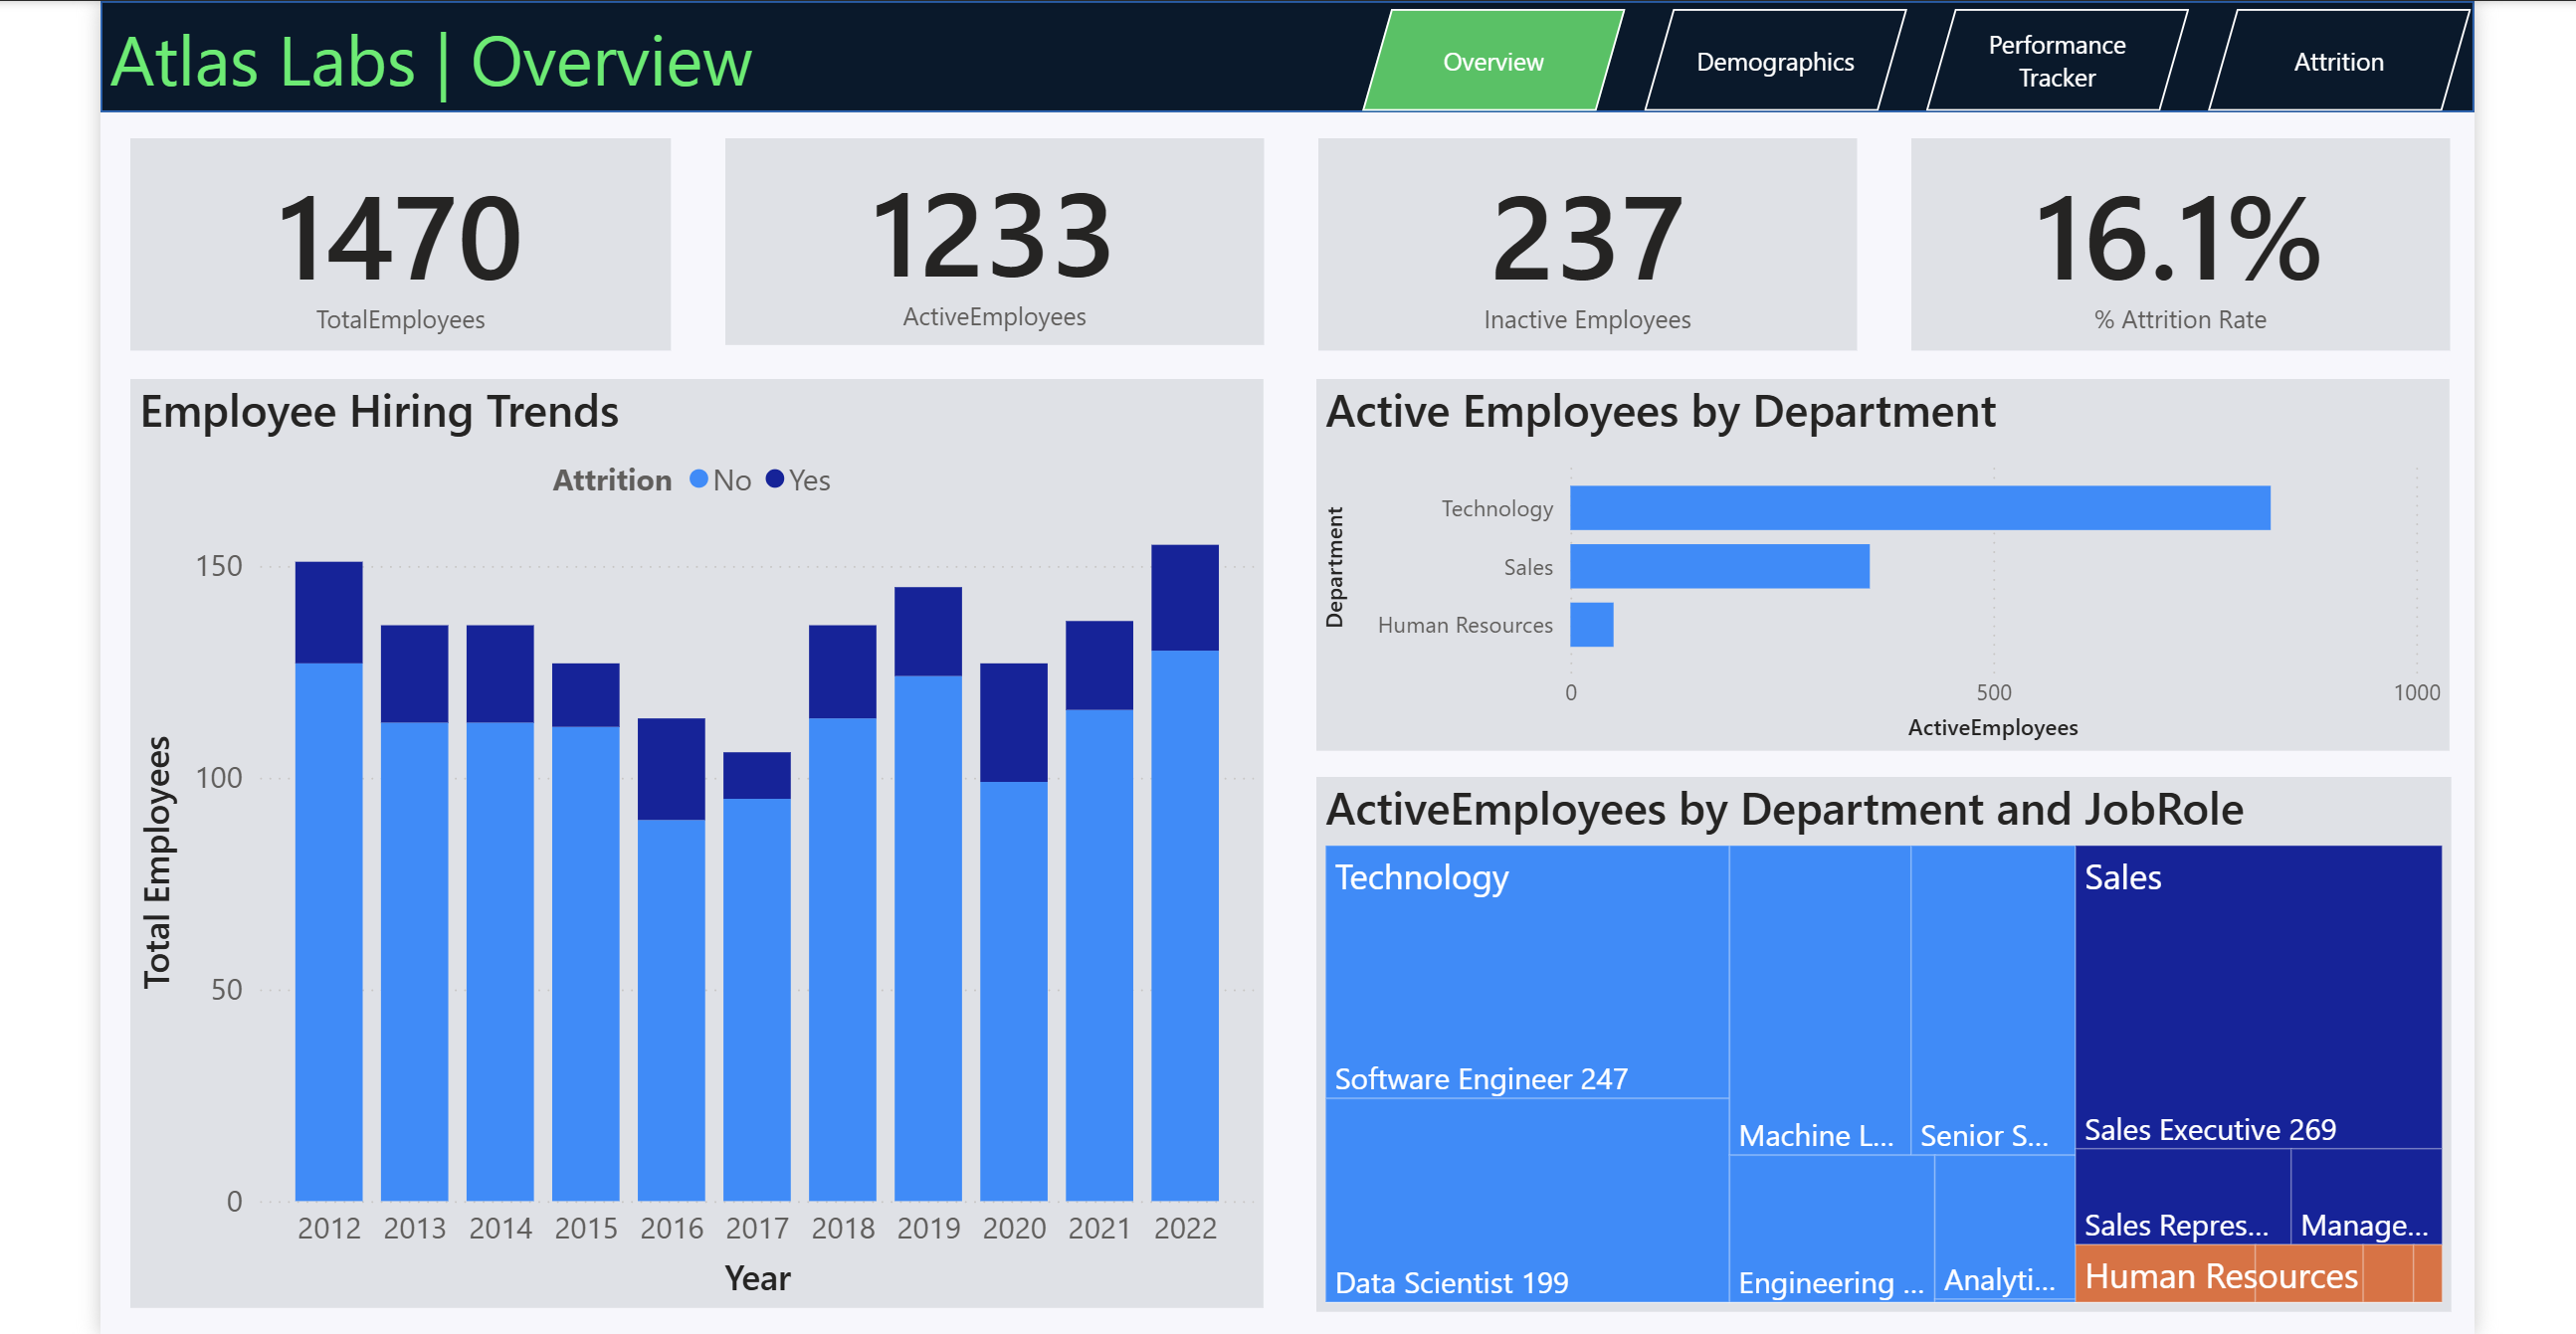

What the dashboard file says about the page in this screenshot:
{"tool":"powerbi","page":{"name":"Overview","canvas":[1280,720],"ordinal":0},"visuals":[{"type":"columnChart","title":"Employee Hiring Trends","fields":{"Y":["_Measures.TotalEmployeesDate"],"Category":["DimDate.Date.Variation.Date Hierarchy.Year"],"Series":["DimEmployee.Attrition"]},"box":[15.6,203.7,611.1,500.9],"z":0},{"type":"clusteredBarChart","title":"Active Employees by Department","fields":{"Category":["DimEmployee.Department"],"Y":["_Measures.ActiveEmployees"]},"box":[655.6,203.7,611.1,200.3],"z":1000},{"type":"treemap","fields":{"Values":["_Measures.ActiveEmployees"],"Group":["DimEmployee.Department"],"Details":["DimEmployee.JobRole"]},"box":[655.6,418.5,612.2,288.3],"z":2000},{"type":"card","fields":{"Values":["_Measures.TotalEmployees"]},"box":[15.6,74.6,291.6,114.6],"z":3000},{"type":"card","fields":{"Values":["_Measures.ActiveEmployees"]},"box":[336.5,74.6,290.5,111.3],"z":4000},{"type":"card","fields":{"Values":["_Measures.InactiveEmployees"]},"box":[656.3,74.6,290.5,114.6],"z":5000},{"type":"card","fields":{"Values":["_Measures.% Attrition Rate"]},"box":[976.1,74.6,290.5,114.6],"z":6000},{"type":"shape","box":[0,0,1280,60],"z":7000},{"type":"textbox","box":[0,0,1280,60],"z":8000},{"type":"pageNavigator","box":[680.1,4.5,599.9,55.7],"z":9000}]}

Visuals, with their boxes on the page's 1280x720 design canvas (x1, y1, x2, y2). These are canvas units, not pixel positions in the 2576x1334 screenshot, which may show the page scaled, cropped or inside an application window:
"Employee Hiring Trends" columnChart: BBox(16, 204, 627, 705)
"Active Employees by Department" clusteredBarChart: BBox(656, 204, 1267, 404)
treemap - _Measures.ActiveEmployees x DimEmployee.Department: BBox(656, 418, 1268, 707)
card - _Measures.TotalEmployees: BBox(16, 75, 307, 189)
card - _Measures.ActiveEmployees: BBox(336, 75, 627, 186)
card - _Measures.InactiveEmployees: BBox(656, 75, 947, 189)
card - _Measures.% Attrition Rate: BBox(976, 75, 1267, 189)
shape: BBox(0, 0, 1280, 60)
textbox: BBox(0, 0, 1280, 60)
pageNavigator: BBox(680, 4, 1280, 60)
